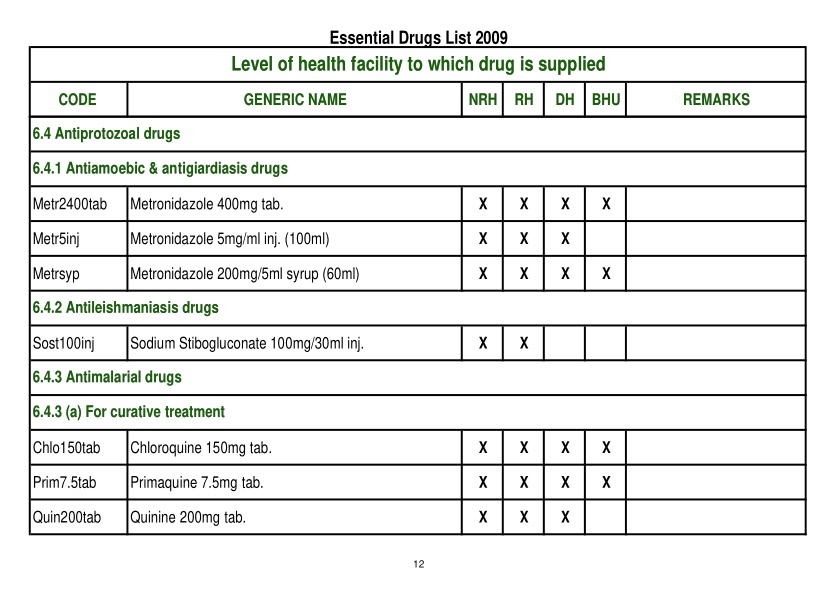merged_cells: (27, 44, 808, 536)
